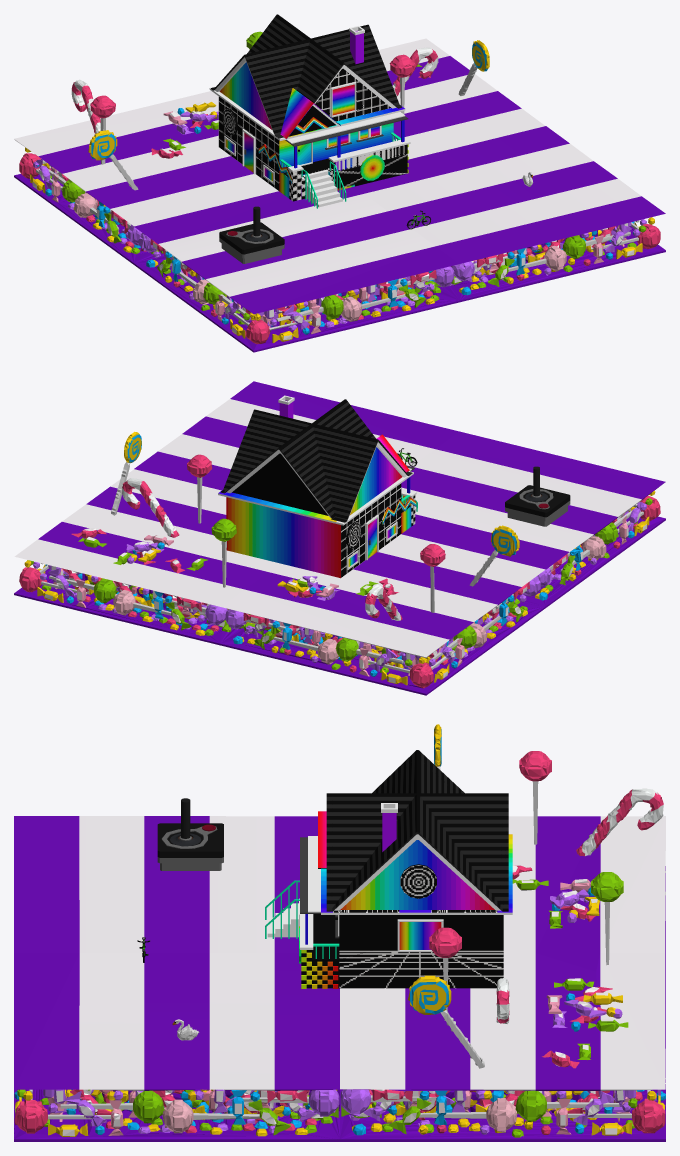
3 views of the same model, one above another, from view 1: azimuth 30°, elevation 25°; view 2: azimuth 150°, elevation 25°; view 3: azimuth 270°, elevation 25° (orthographic). The views are drawn at different scales.
Parts seen in each view (by area): view 1: TERRAIN_CANDY, Cube.1320, OBJRANDOM_JOYSTICK; view 2: TERRAIN_CANDY, Cube.1320, OBJRANDOM_JOYSTICK; view 3: TERRAIN_CANDY, Cube.1320, OBJRANDOM_JOYSTICK.
Part boxes in pixels (x1=…): TERRAIN_CANDY: x1=14, y1=31, x2=665, y2=352; Cube.1320: x1=209, y1=14, x2=410, y2=208; OBJRANDOM_JOYSTICK: x1=219, y1=206, x2=284, y2=263; TERRAIN_CANDY: x1=14, y1=381, x2=665, y2=695; Cube.1320: x1=218, y1=395, x2=417, y2=578; OBJRANDOM_JOYSTICK: x1=505, y1=466, x2=570, y2=526; TERRAIN_CANDY: x1=14, y1=724, x2=665, y2=1141; Cube.1320: x1=265, y1=750, x2=512, y2=988; OBJRANDOM_JOYSTICK: x1=157, y1=798, x2=223, y2=870.
Size of the model in its own units: 4059 by 1607 by 4000.
Materials: 27 (5 with a texture image).
